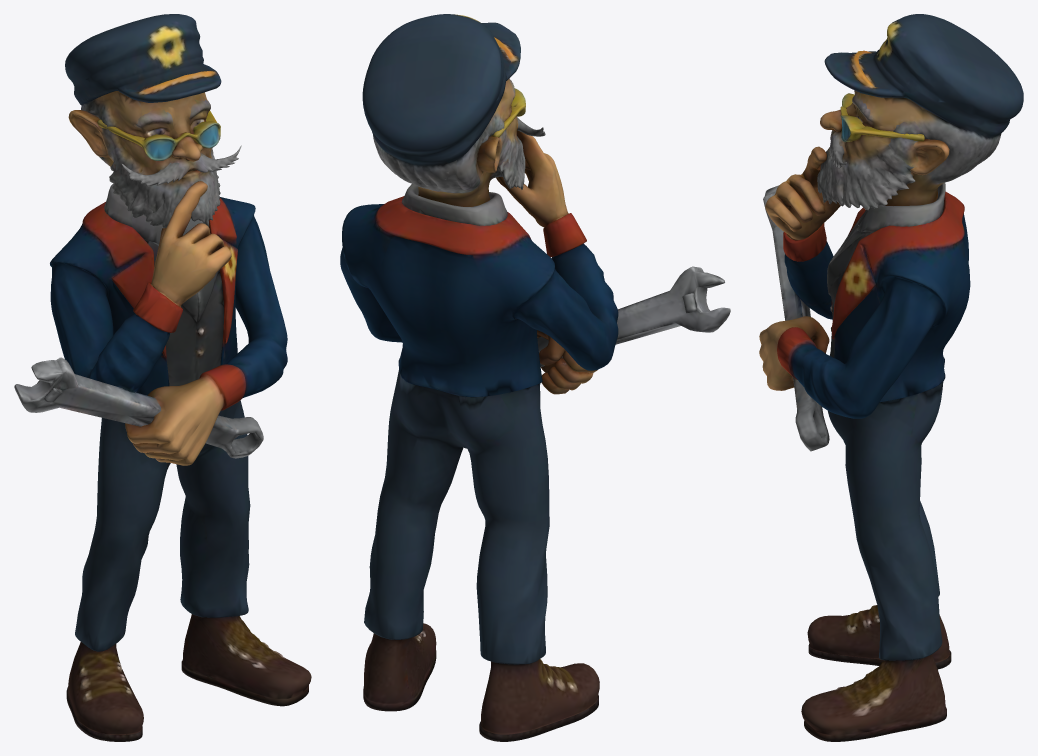
File: MZ4250 - Old Gnome Artificer.glb
The picture shows the model from 3 angles, left to right: view 1: azimuth 30°, elevation 25°; view 2: azimuth 150°, elevation 25°; view 3: azimuth 270°, elevation 25°; orthographic projection. The views are drawn at different scales.
Parts seen in each view (by area): view 1: Gnome Male Artificer Old & Pondering.001; view 2: Gnome Male Artificer Old & Pondering.001; view 3: Gnome Male Artificer Old & Pondering.001.
Boxes of the visible parts, x1,y1,x2,y2 form: Gnome Male Artificer Old & Pondering.001: (14, 14, 311, 741); Gnome Male Artificer Old & Pondering.001: (340, 14, 730, 741); Gnome Male Artificer Old & Pondering.001: (759, 14, 1023, 741).
Bounding box in the file's own units: 11.48 × 23.31 × 8.41.
1 material, 1 textured.
